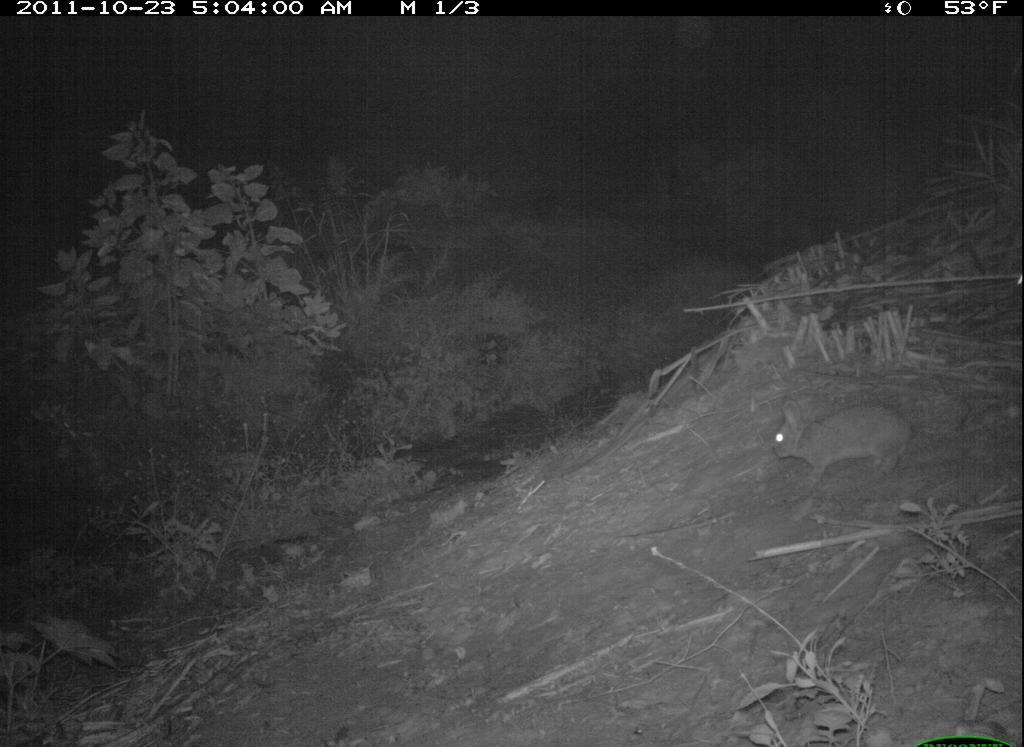rabbit: (771, 395, 920, 487)
